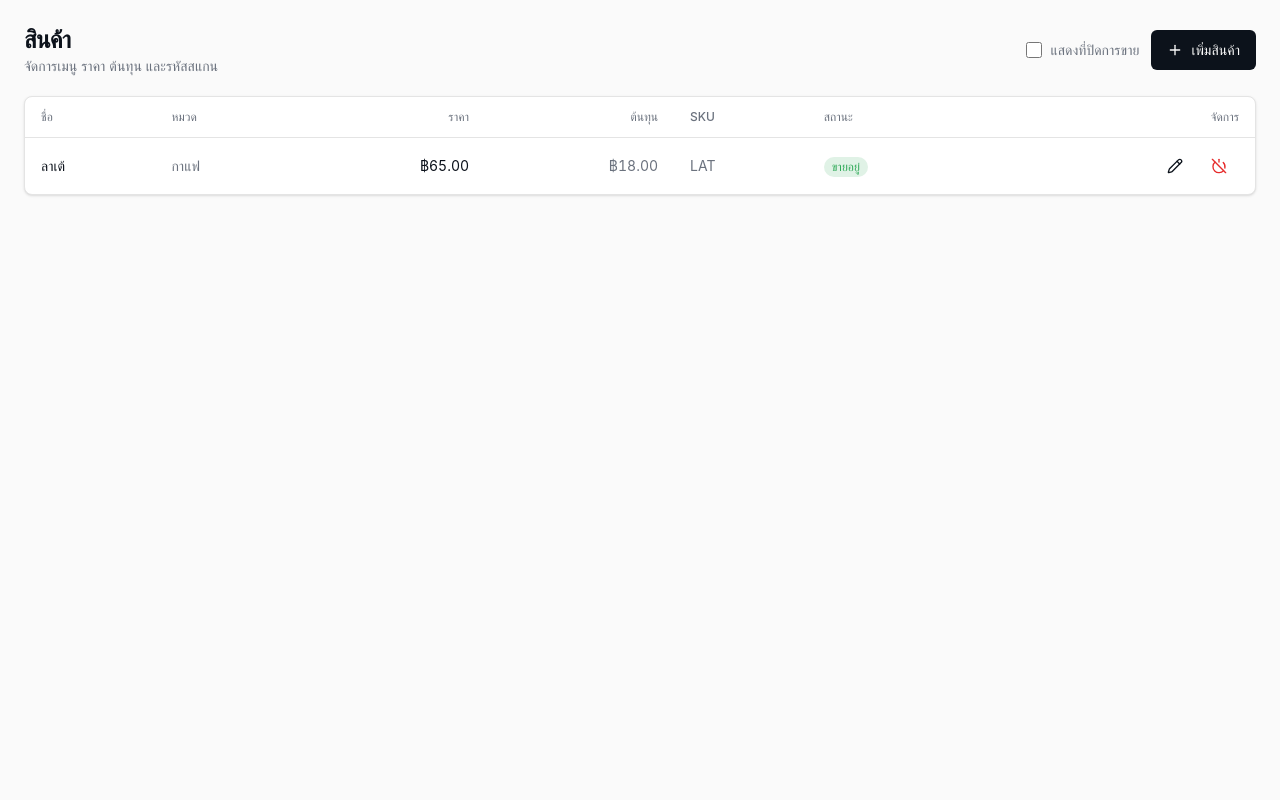
Scenario: ProductsPage › opens the create dialog
This screenshot has width=1280, height=800.
Step 1. Click the button "เพิ่มสินค้า" → [1204, 50], box [1151,30,1256,70]
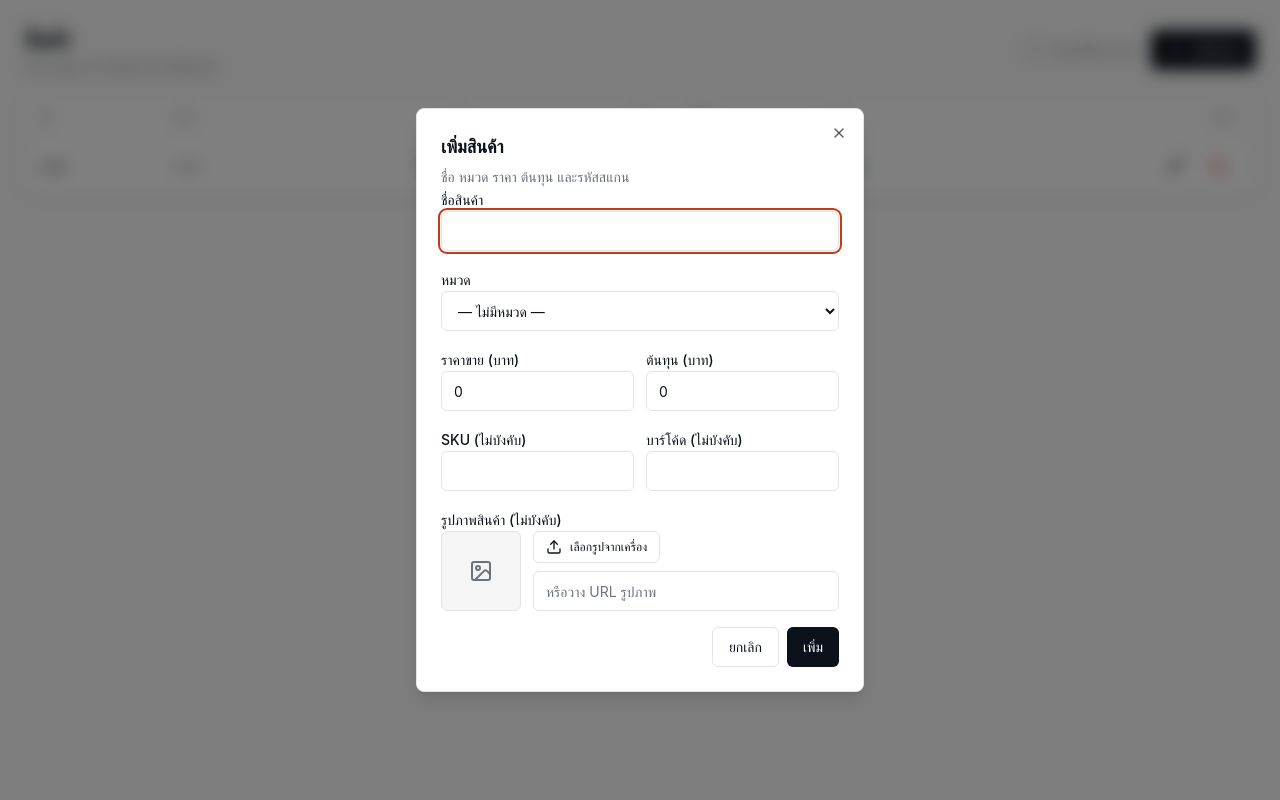
Check: the dialog is shown, box [416,108,864,692]
